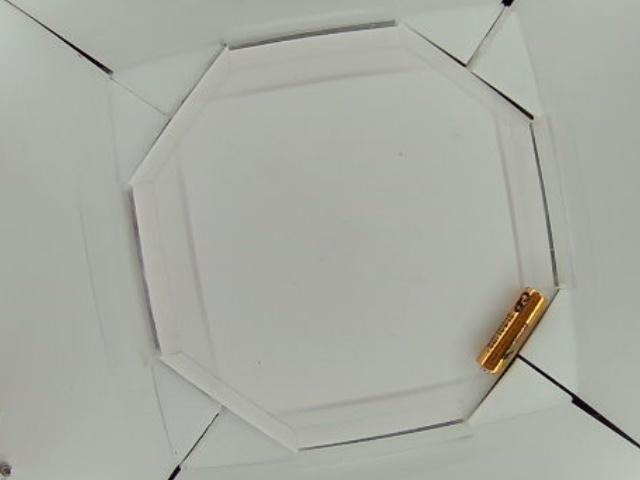Battery: (478, 288, 547, 374)
